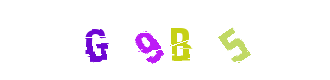5: (165, 0, 245, 80)
9: (106, 0, 186, 80)
B: (125, 0, 205, 80)
G: (56, 0, 136, 80)
